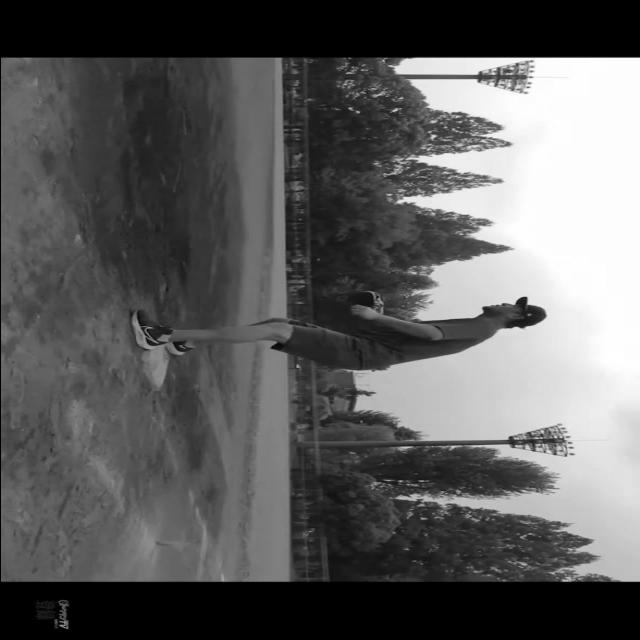base: (139, 338, 169, 392)
baseball_glove: (332, 290, 386, 316)
shoe: (128, 308, 170, 350), (170, 340, 190, 358)
